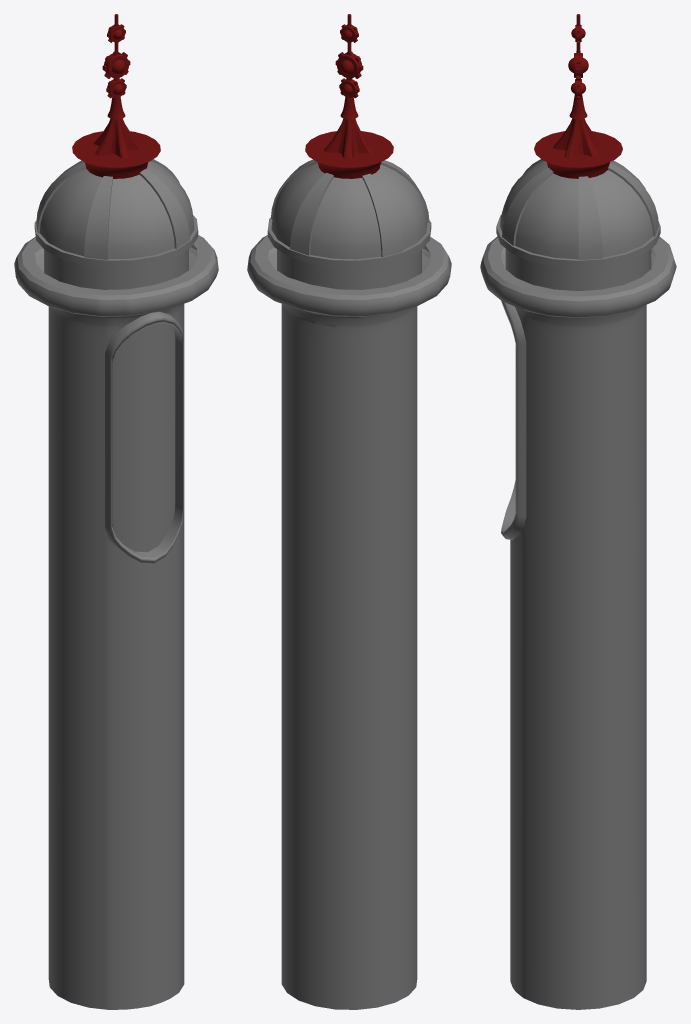
The model's file is Fancy Dome With Spire.obj.
3 renders of one model, left to right at view 1: azimuth 30°, elevation 25°; view 2: azimuth 150°, elevation 25°; view 3: azimuth 270°, elevation 25°, orthographic.
Parts seen in each view (by area): view 1: FancyTube, FancyTube Fancy_Dome, FancyTube Fancy_Door, FancyTube Fancy_Spire, FancyTube Fancy_Dome Spire_Bottom; view 2: FancyTube, FancyTube Fancy_Dome, FancyTube Fancy_Spire, FancyTube Fancy_Dome Spire_Bottom; view 3: FancyTube, FancyTube Fancy_Dome, FancyTube Fancy_Spire, FancyTube Fancy_Dome Spire_Bottom.
Boxes of the visible parts, left/top/right/bottom form: FancyTube: left=14, top=235, right=218, bottom=1009; FancyTube Fancy_Dome: left=34, top=159, right=198, bottom=289; FancyTube Fancy_Door: left=112, top=323, right=175, bottom=552; FancyTube Fancy_Spire: left=94, top=14, right=142, bottom=158; FancyTube Fancy_Dome Spire_Bottom: left=72, top=131, right=160, bottom=178; FancyTube: left=247, top=235, right=451, bottom=1009; FancyTube Fancy_Dome: left=267, top=159, right=431, bottom=289; FancyTube Fancy_Spire: left=324, top=14, right=373, bottom=159; FancyTube Fancy_Dome Spire_Bottom: left=305, top=131, right=393, bottom=178; FancyTube: left=480, top=236, right=676, bottom=1009; FancyTube Fancy_Dome: left=496, top=159, right=660, bottom=290; FancyTube Fancy_Spire: left=553, top=14, right=602, bottom=158; FancyTube Fancy_Dome Spire_Bottom: left=534, top=131, right=622, bottom=178.
Bounding box in the file's own units: 2.83 × 14.59 × 2.69.
